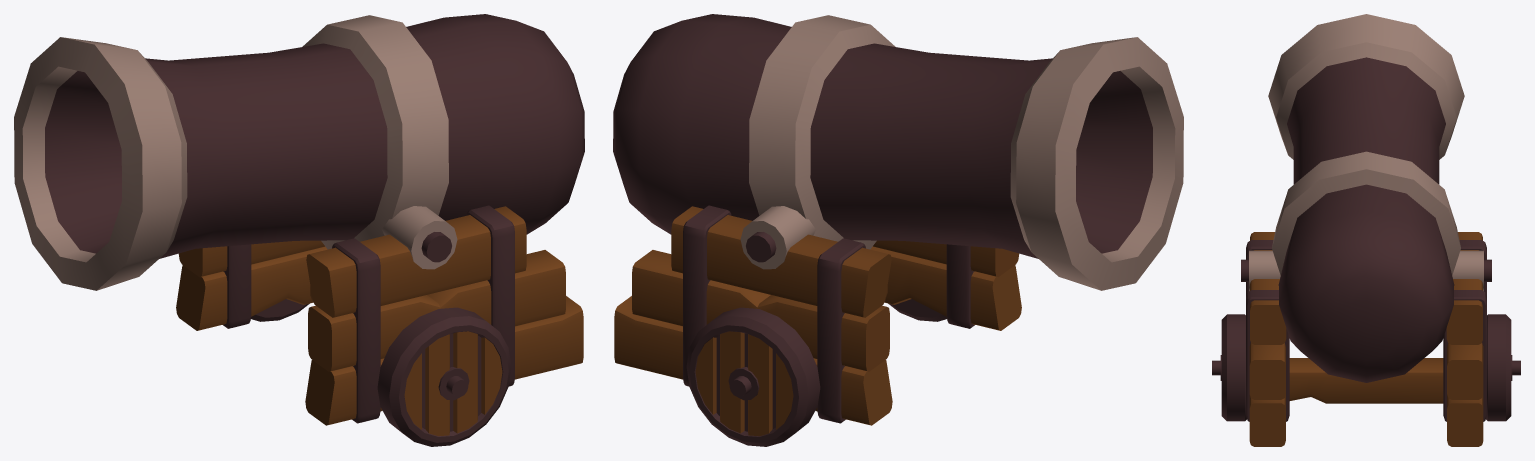
File: Prop_Cannon.glb
The picture shows the model from 3 angles, left to right: view 1: azimuth 30°, elevation 25°; view 2: azimuth 150°, elevation 25°; view 3: azimuth 270°, elevation 25°; orthographic projection. The views are drawn at different scales.
Parts seen in each view (by area): view 1: Prop_Cannon; view 2: Prop_Cannon; view 3: Prop_Cannon.
Boxes of the visible parts, box(x1,y1,x2,y2) form: Prop_Cannon: box(14, 14, 584, 446); Prop_Cannon: box(613, 14, 1183, 446); Prop_Cannon: box(1212, 14, 1520, 446).
Bounding box in the file's own units: 1.48 × 1.13 × 1.04.
Materials: 1 (1 with a texture image).
